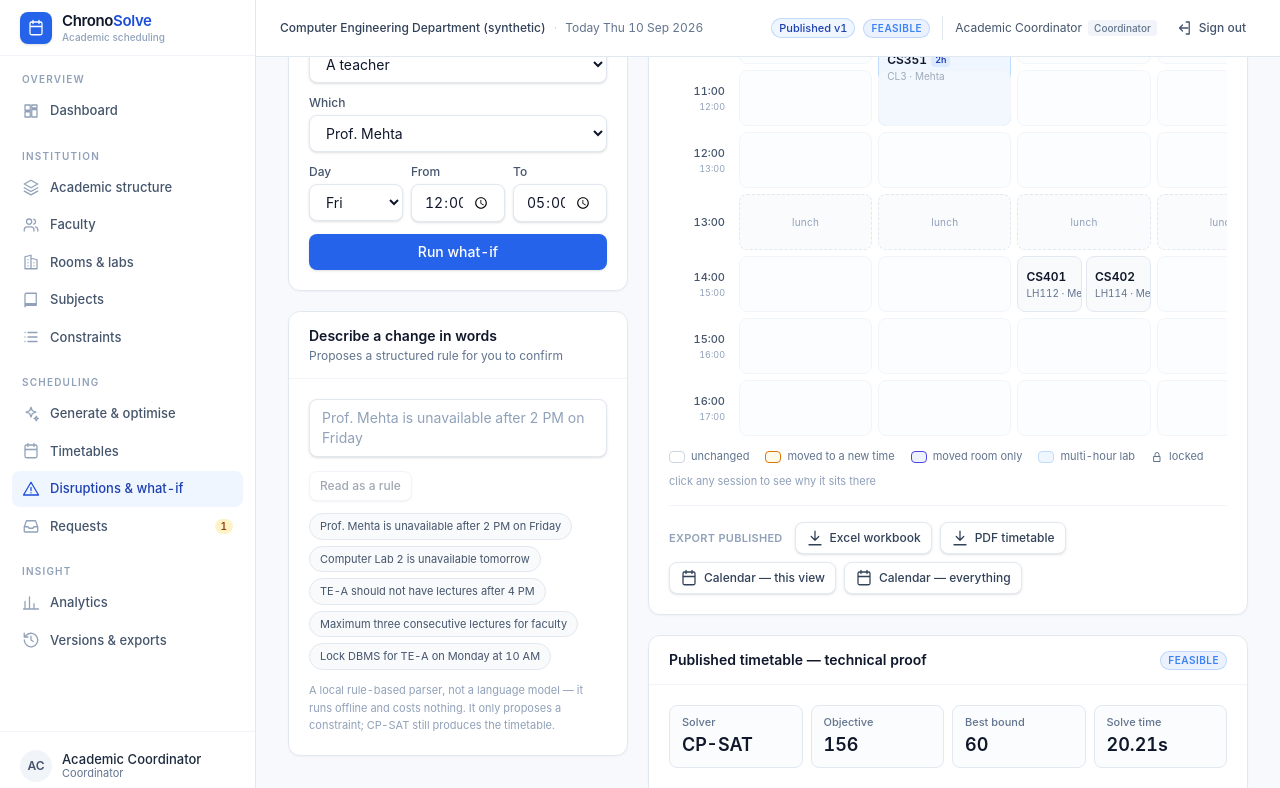
it: natural-language entry › explains an unreadable sentence instead of guessing
This screenshot has width=1280, height=788.
(page scrolled)
Expected: the navigation bar named "Main" is shown, [0,56,255,731]
Type "something vague" into the text box named "Describe a change".
click(458, 428); type("something vague")  # box [309,399,607,457]
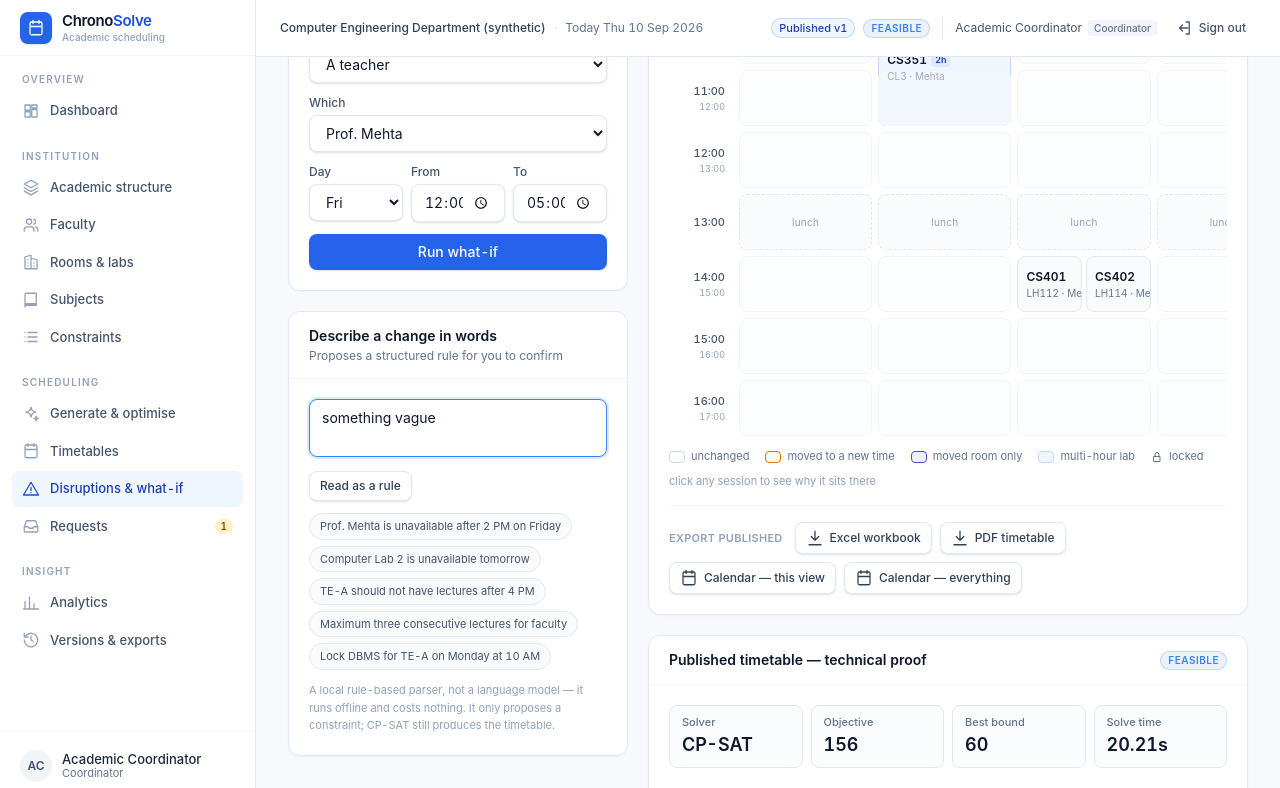
Click the button "Read as a rule".
click(360, 486)  # box [309,471,412,501]
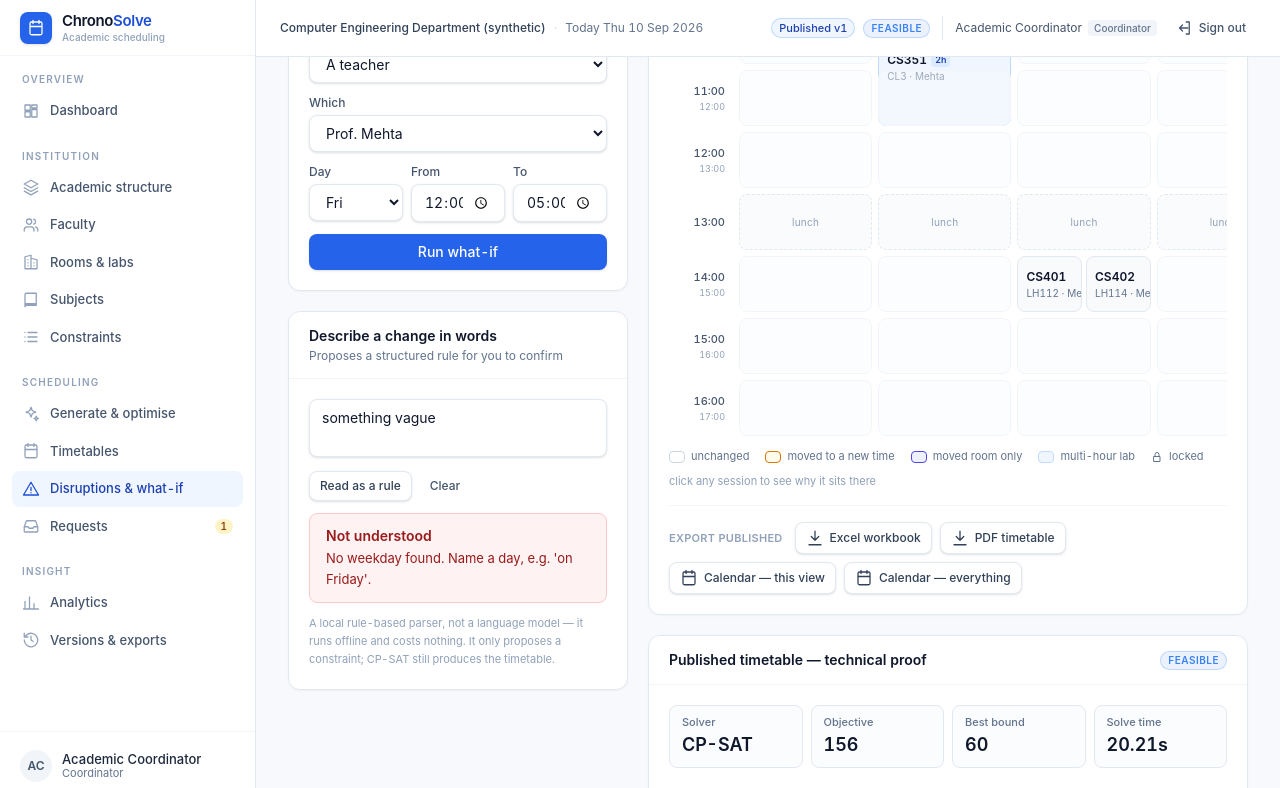
Now the text "Not understood" is shown, box [326,527,432,544]
Now the list item "No weekday found. Name a day, e.g. 'on Friday'." is shown, box [326,548,590,590]
